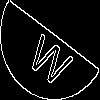W: (25, 25, 79, 89)
